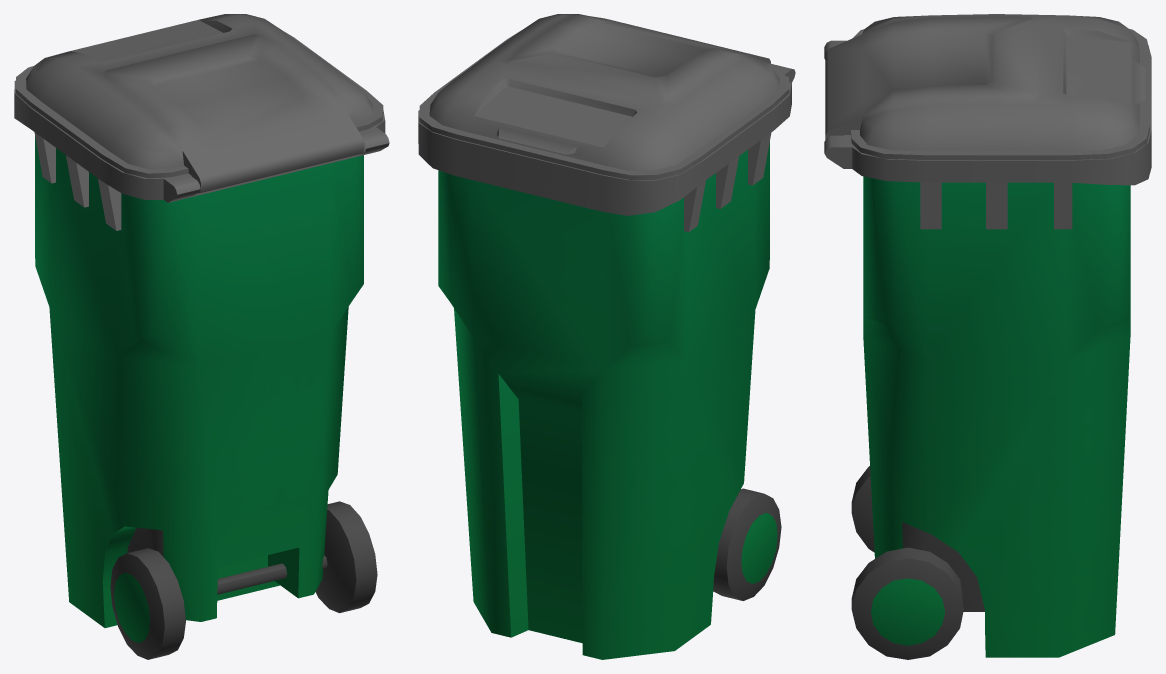
Rendered from TrashCan.fbx.
3 views of the same model, side by side, from view 1: azimuth 30°, elevation 25°; view 2: azimuth 150°, elevation 25°; view 3: azimuth 270°, elevation 25° (orthographic). The views are drawn at different scales.
Visible parts, largest first — view 1: TrashCan_Green_002; view 2: TrashCan_Green_002; view 3: TrashCan_Green_002.
Boxes of the visible parts, left/top/right/bottom form: TrashCan_Green_002: left=14, top=14, right=389, bottom=659; TrashCan_Green_002: left=418, top=14, right=795, bottom=659; TrashCan_Green_002: left=824, top=14, right=1151, bottom=659.
Size of the model in its own units: 1353 by 2593 by 1396.
